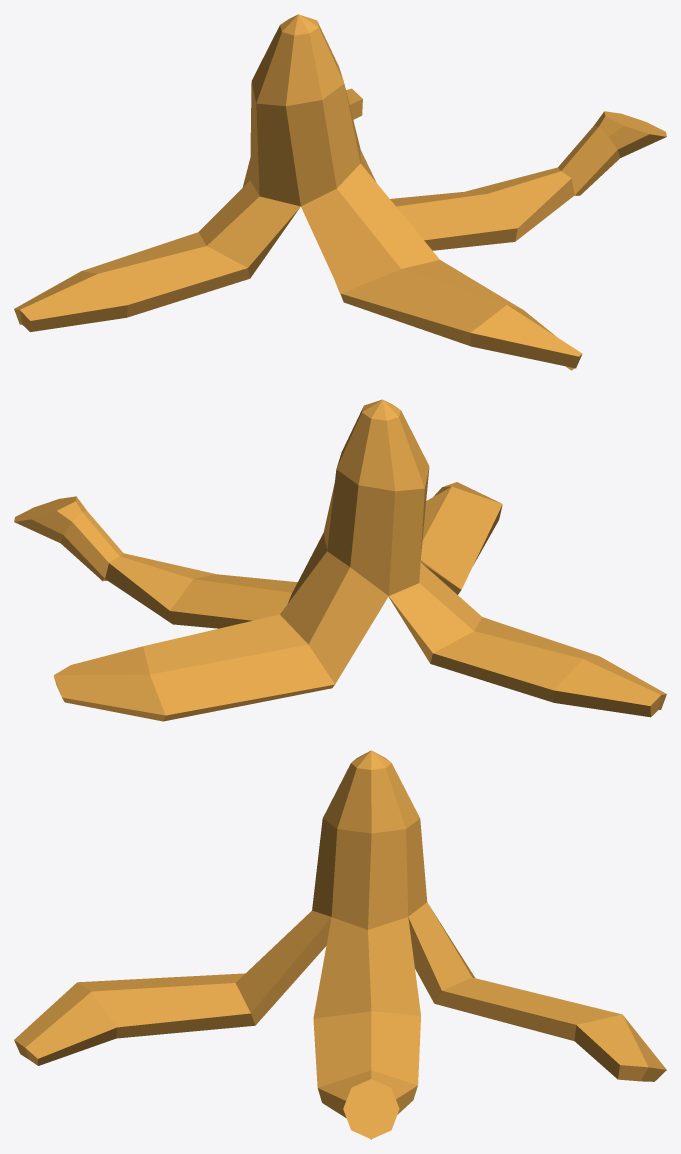
The model's file is banana-peel.fbx.
The picture shows the model from 3 angles, top to bottom: view 1: azimuth 30°, elevation 25°; view 2: azimuth 150°, elevation 25°; view 3: azimuth 270°, elevation 25°; orthographic projection.
Parts seen in each view (by area): view 1: banana-peel; view 2: banana-peel; view 3: banana-peel.
Boxes of the visible parts, box(x1,y1,x2,y2) form: banana-peel: box(14, 14, 666, 370); banana-peel: box(14, 399, 666, 721); banana-peel: box(14, 750, 666, 1139).
Bounding box in the file's own units: 0.3808 × 0.1472 × 0.3312.
